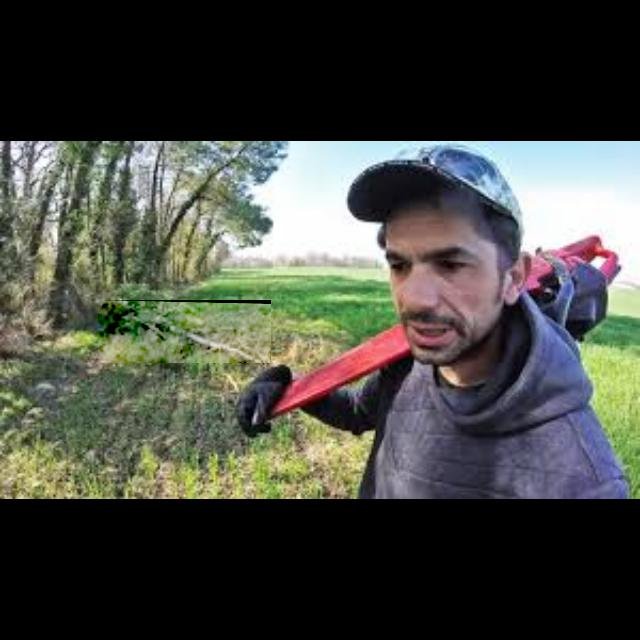Fallen Tree: (98, 300, 272, 364)
